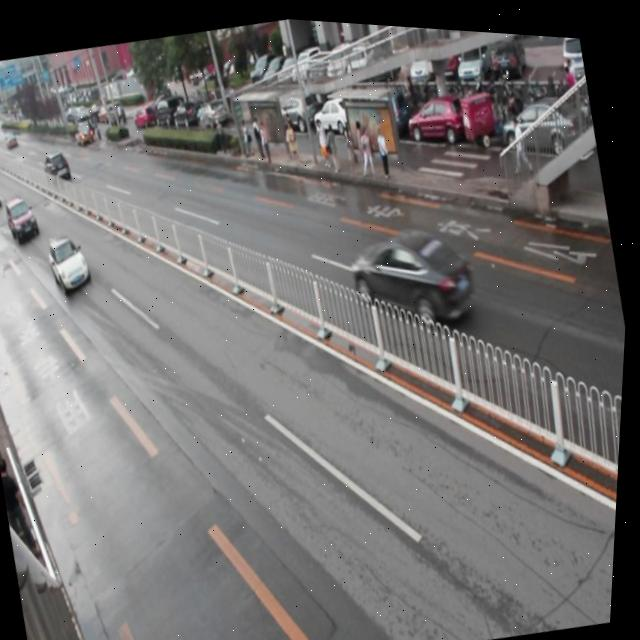car: (343, 212, 486, 341), (46, 228, 98, 295), (4, 192, 43, 245)
